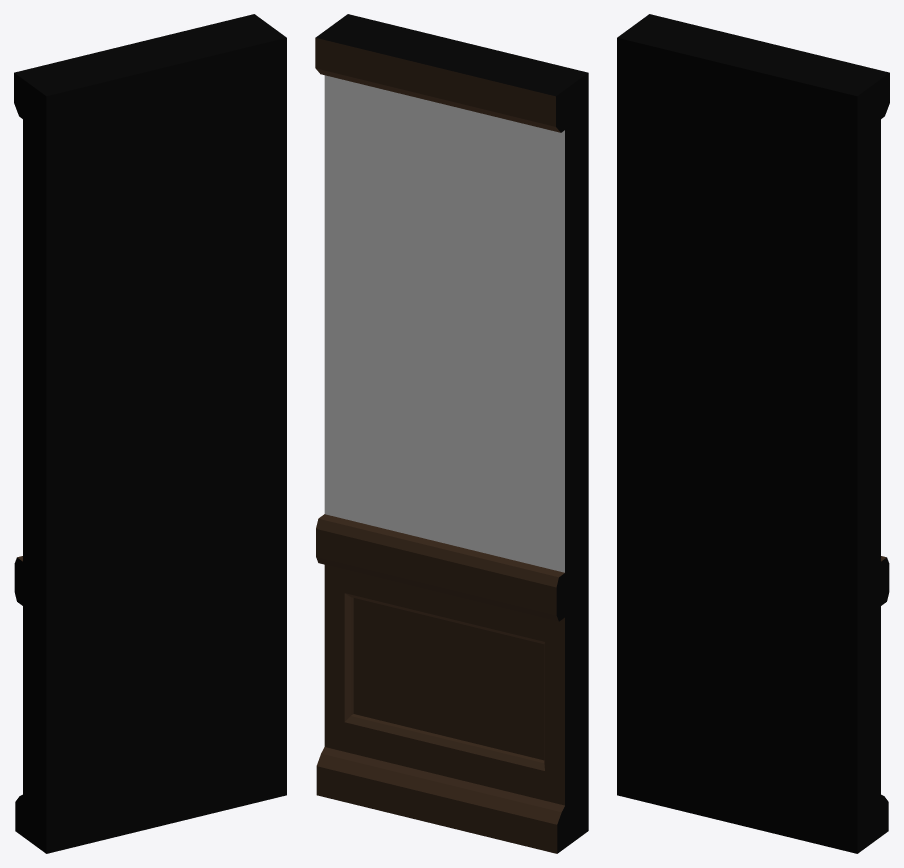
The model's file is Wall_01_half.fbx.
The picture shows the model from 3 angles, left to right: view 1: azimuth 30°, elevation 25°; view 2: azimuth 150°, elevation 25°; view 3: azimuth 330°, elevation 25°; orthographic projection.
Visible parts, largest first — view 1: Cube.161; view 2: Cube.161; view 3: Cube.161.
Boxes of the visible parts, x1,y1,x2,y2 form: Cube.161: (14, 14, 286, 853); Cube.161: (315, 14, 588, 853); Cube.161: (617, 14, 889, 853).
Bounding box in the file's own units: 0.2334 × 1 × 3.01.
